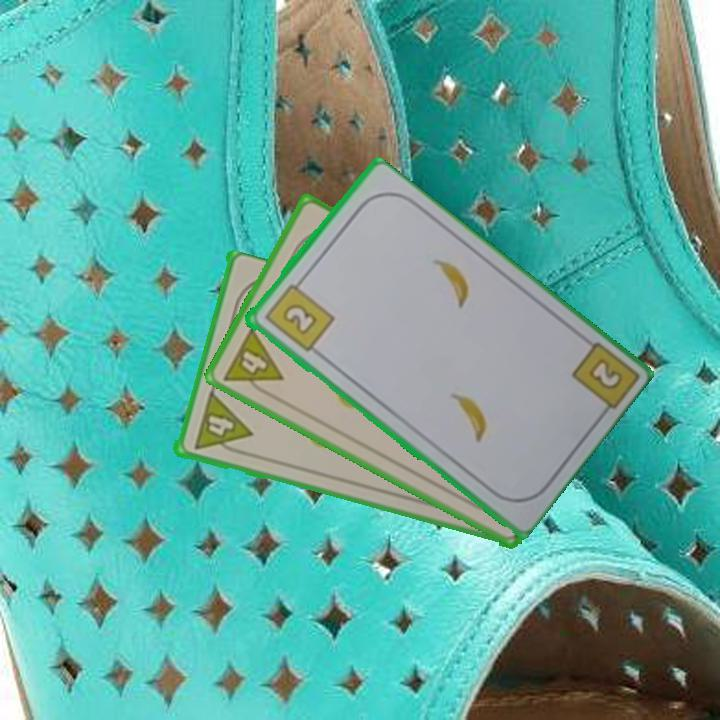2b: (260, 275, 337, 355), (584, 354, 625, 393)
4p: (219, 323, 286, 402), (190, 389, 253, 459)
